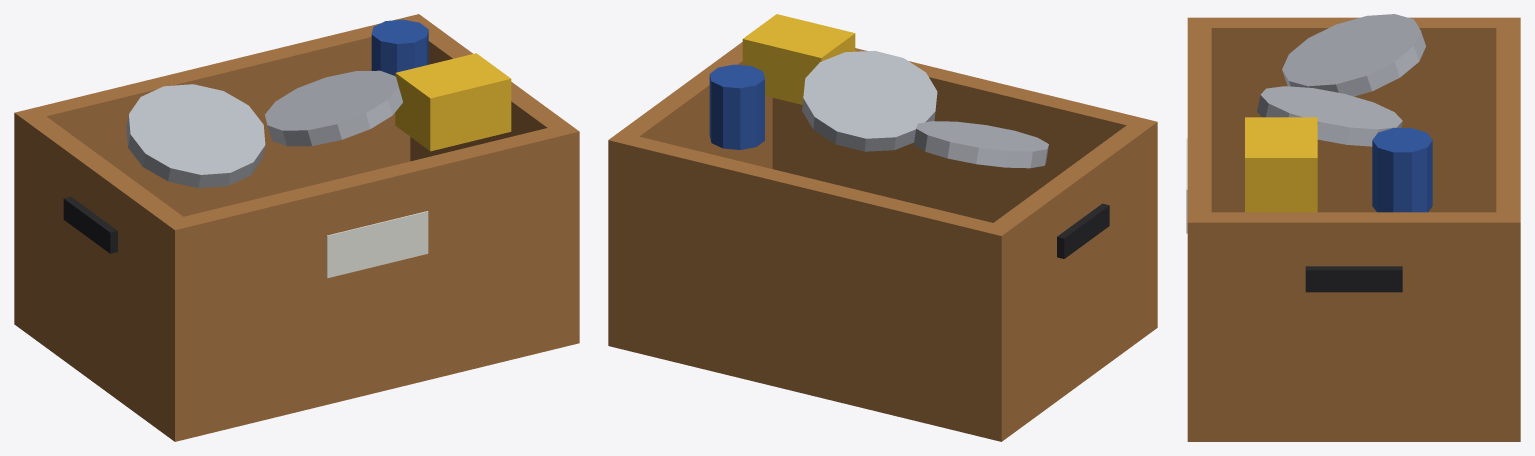
File: garage_parts_crate.glb
3 renders of one model, left to right at view 1: azimuth 30°, elevation 25°; view 2: azimuth 150°, elevation 25°; view 3: azimuth 270°, elevation 25°, orthographic. The views are drawn at different scales.
Parts seen in each view (by area): view 1: box_crate_wood, discs_tool_chrome, boxes_parts_box, tag_counter_white, filters_filter_blue, handles_flash_black; view 2: box_crate_wood, discs_tool_chrome, boxes_parts_box, filters_filter_blue, handles_flash_black; view 3: box_crate_wood, discs_tool_chrome, boxes_parts_box, filters_filter_blue, handles_flash_black.
Boxes of the visible parts, x1=… form: box_crate_wood: x1=14, y1=14, x2=579, y2=441; discs_tool_chrome: x1=126, y1=70, x2=402, y2=188; boxes_parts_box: x1=395, y1=53, x2=511, y2=151; tag_counter_white: x1=326, y1=211, x2=428, y2=278; filters_filter_blue: x1=371, y1=19, x2=428, y2=75; handles_flash_black: x1=63, y1=197, x2=117, y2=253; box_crate_wood: x1=608, y1=42, x2=1157, y2=441; discs_tool_chrome: x1=802, y1=50, x2=1048, y2=168; boxes_parts_box: x1=742, y1=14, x2=855, y2=104; filters_filter_blue: x1=709, y1=64, x2=764, y2=149; handles_flash_black: x1=1057, y1=203, x2=1109, y2=258; box_crate_wood: x1=1187, y1=17, x2=1520, y2=441; discs_tool_chrome: x1=1257, y1=14, x2=1425, y2=146; boxes_parts_box: x1=1245, y1=117, x2=1317, y2=212; filters_filter_blue: x1=1372, y1=128, x2=1432, y2=212; handles_flash_black: x1=1305, y1=266, x2=1402, y2=292.
Size of the model in its own units: 0.83 by 0.48 by 0.552.
